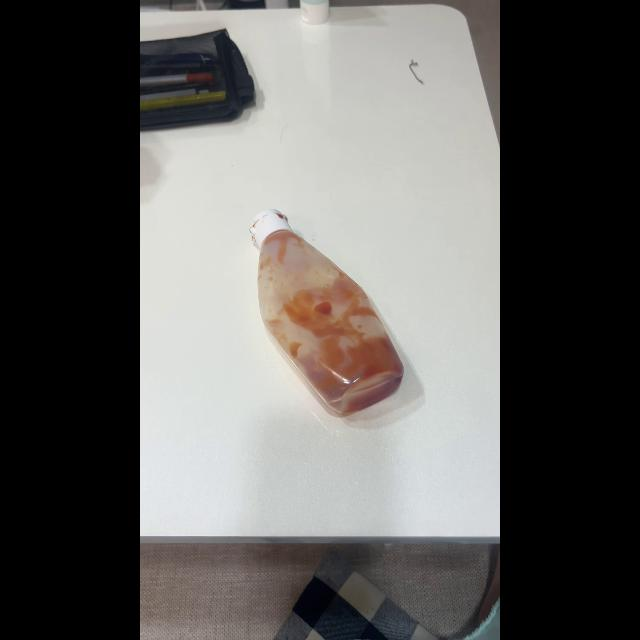dirty: (256, 214, 404, 416)
